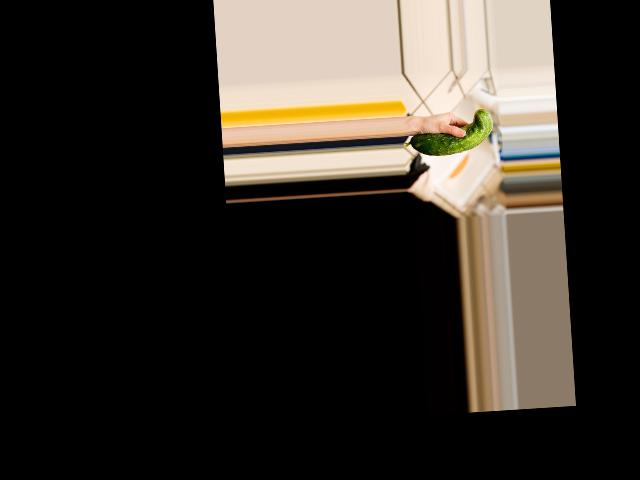cucumber: (402, 108, 494, 158)
